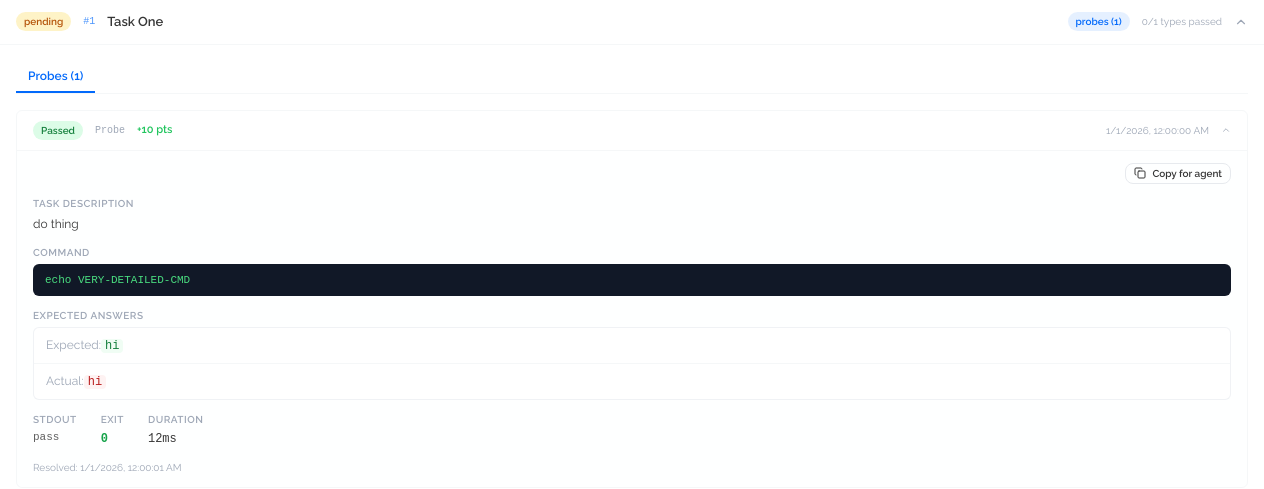
PlayerTaskPanel › probe expand shows full info
Click the button "Passed Probe +10 pts 1/1/2026, 12:00:00 AM" at (58, 130), box [17, 110, 1247, 150]
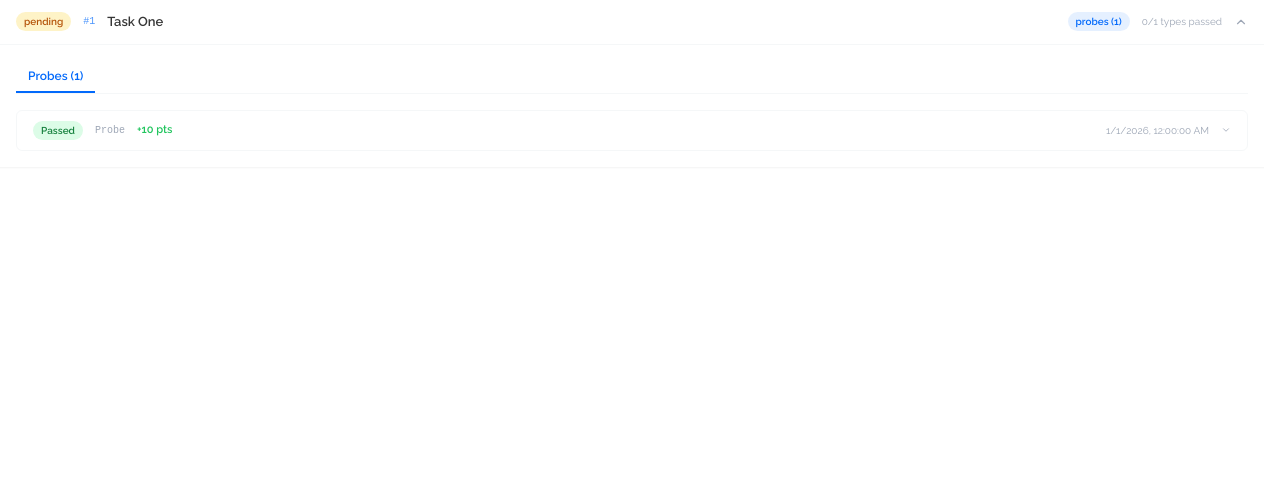
expect the text "VERY-DETAILED-CMD" is gone: met
